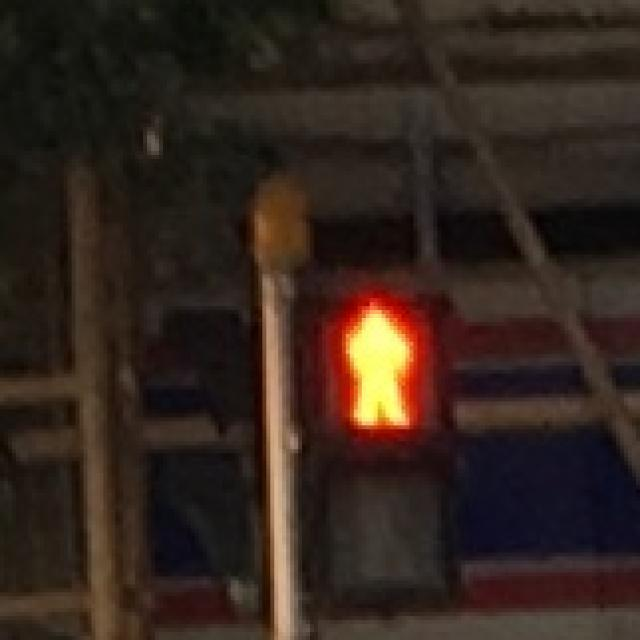red-crossing: (306, 287, 441, 438)
